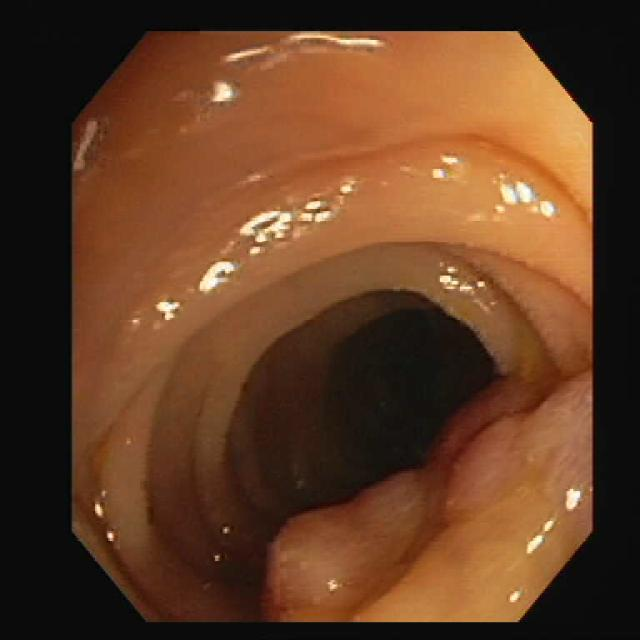tumor: (268, 373, 590, 618)
